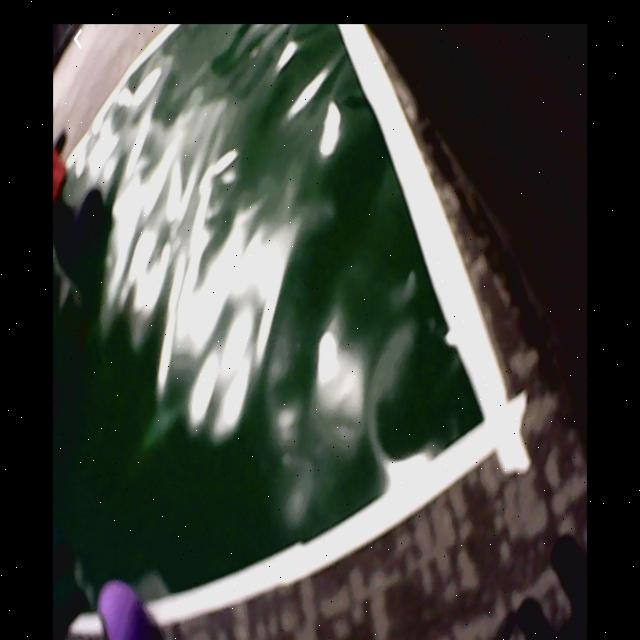ball: (95, 584, 149, 640)
